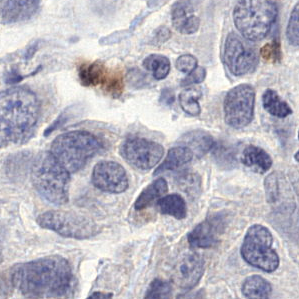Lymphocyte: (76, 59, 128, 93)
